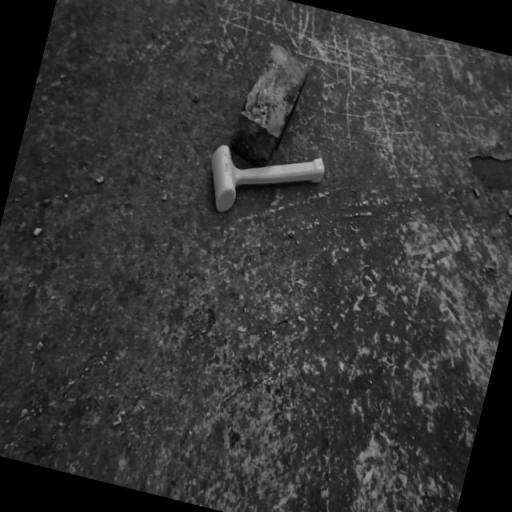mallet: (200, 132, 328, 234)
